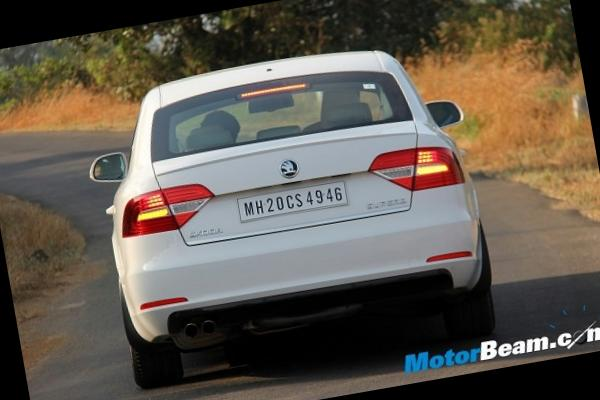plate: (230, 168, 358, 235)
